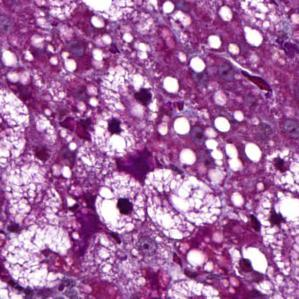ballooning: (144, 165, 224, 242), (94, 169, 148, 236), (87, 105, 144, 166)
